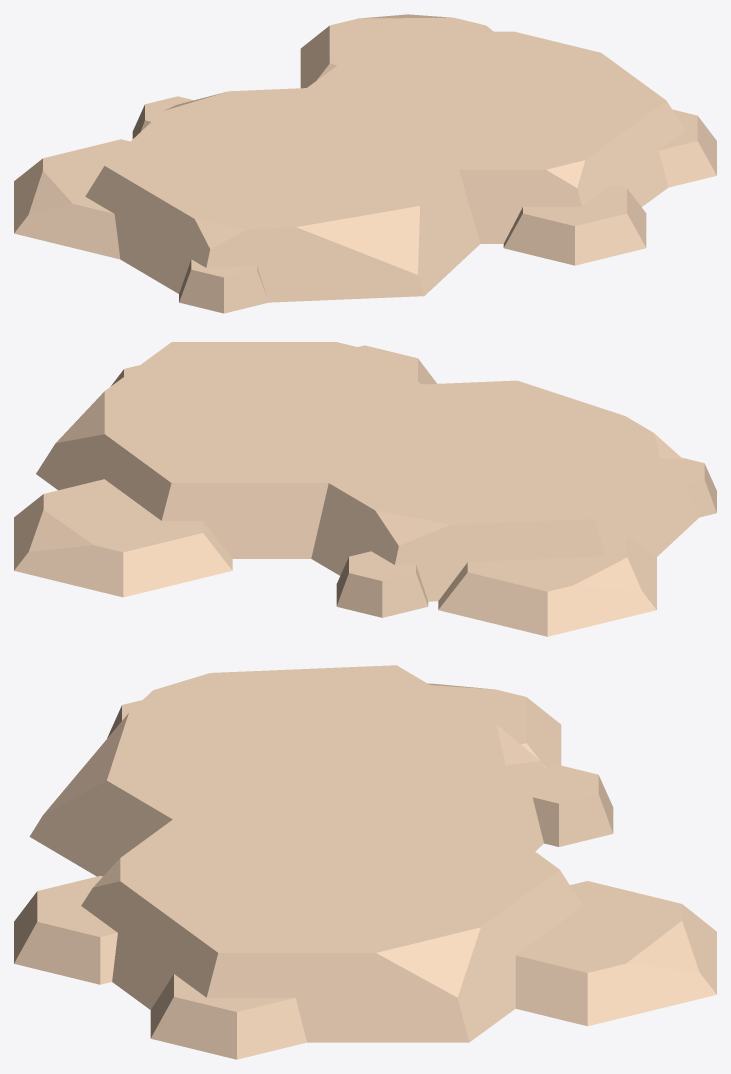
The model's file is platform_beach.obj.
The picture shows the model from 3 angles, top to bottom: view 1: azimuth 30°, elevation 25°; view 2: azimuth 150°, elevation 25°; view 3: azimuth 270°, elevation 25°; orthographic projection. The views are drawn at different scales.
Parts seen in each view (by area): view 1: platform_beach; view 2: platform_beach; view 3: platform_beach.
Part boxes in pixels (box(x1,y1,x2,y2)): platform_beach: box(14, 14, 716, 313); platform_beach: box(14, 342, 716, 636); platform_beach: box(14, 665, 716, 1059).
Bounding box in the file's own units: 0.8932 × 0.0825 × 0.7239.
